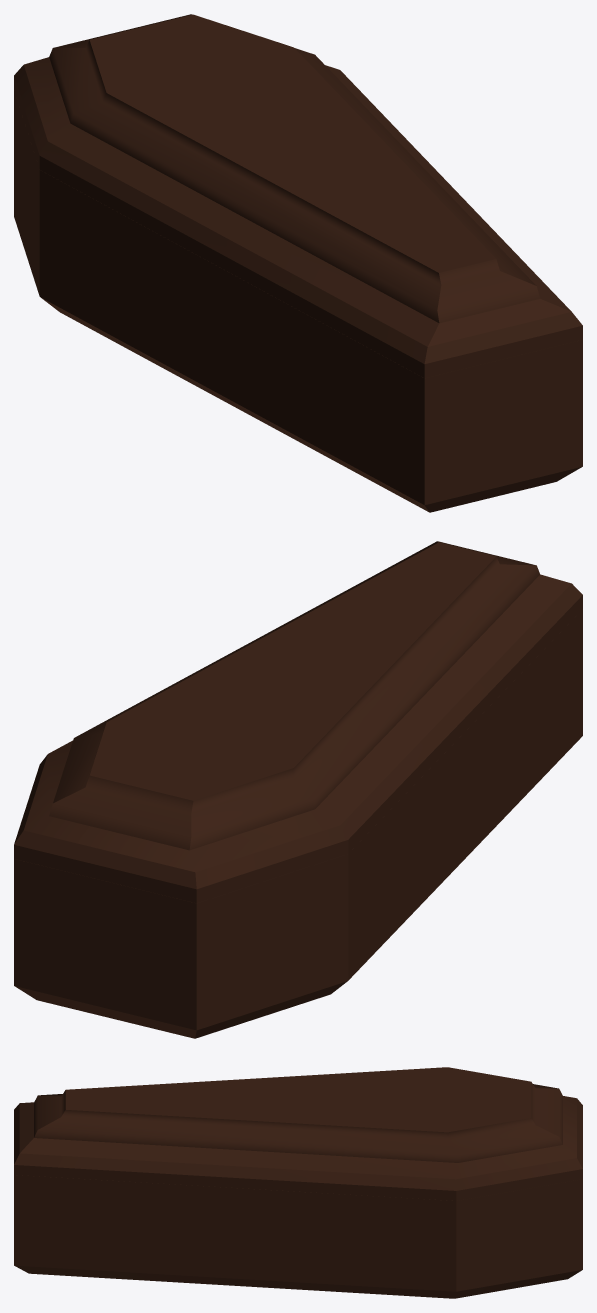
The model's file is Coffin_1.fbx.
3 renders of one model, top to bottom at view 1: azimuth 30°, elevation 25°; view 2: azimuth 150°, elevation 25°; view 3: azimuth 270°, elevation 25°, orthographic. The views are drawn at different scales.
Parts seen in each view (by area): view 1: Coffin_1_Lid, Coffin_1; view 2: Coffin_1_Lid, Coffin_1; view 3: Coffin_1_Lid, Coffin_1.
Boxes of the visible parts, <box> form: Coffin_1_Lid: <box>14,14,582,378</box>; Coffin_1: <box>14,90,582,512</box>; Coffin_1_Lid: <box>14,541,582,903</box>; Coffin_1: <box>14,609,582,1038</box>; Coffin_1_Lid: <box>14,1067,582,1200</box>; Coffin_1: <box>14,1175,582,1298</box>.
Bounding box in the file's own units: 28.19 × 18.57 × 63.06.
